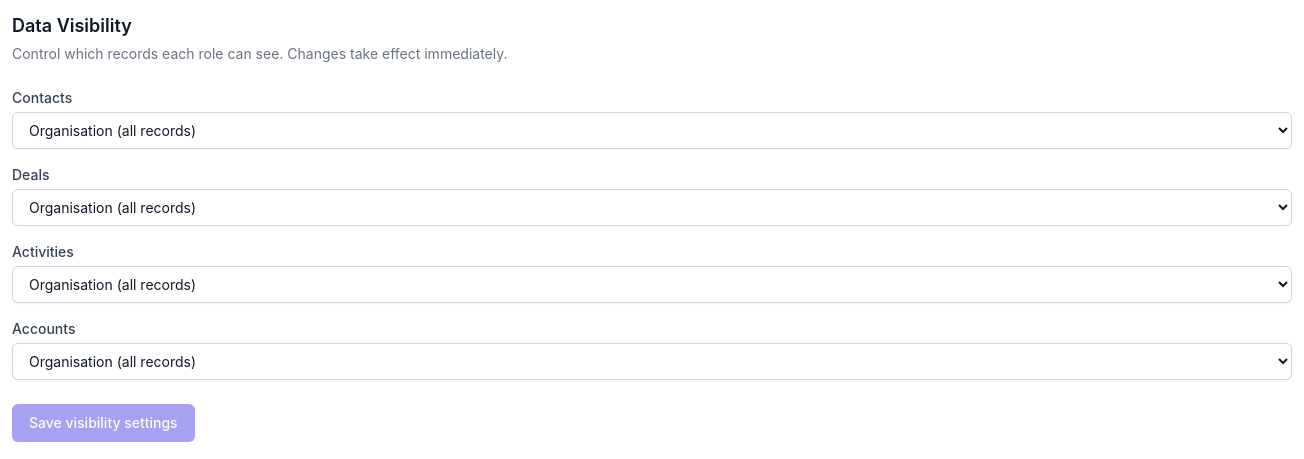
Test case: VisibilitySettings — save flow › shows success message after a successful save
Select "Team (team members' records)" in the dropdown with test id "visibility-contacts-select" at (652, 130), box [12,112,1292,149]
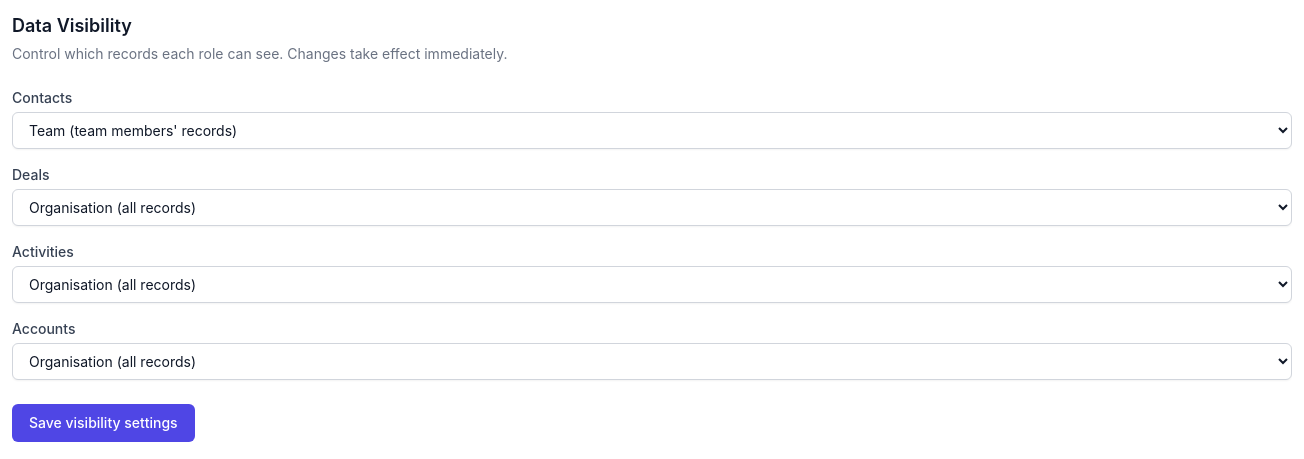
Click the button with test id "visibility-settings-save-button" at (103, 423), box [12,404,195,442]
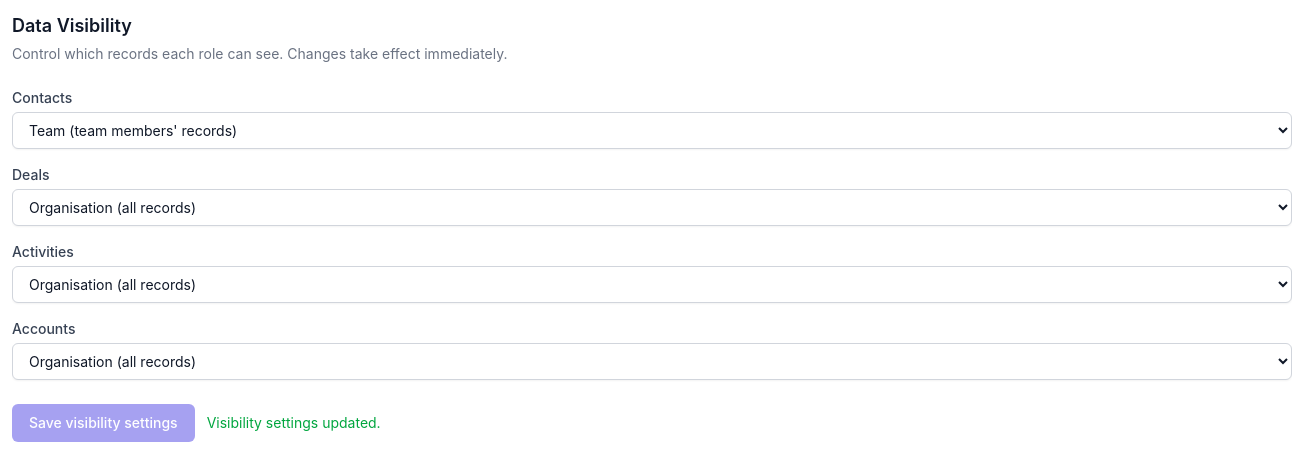
Now the message "Visibility settings updated." is shown, box [207,413,381,433]
